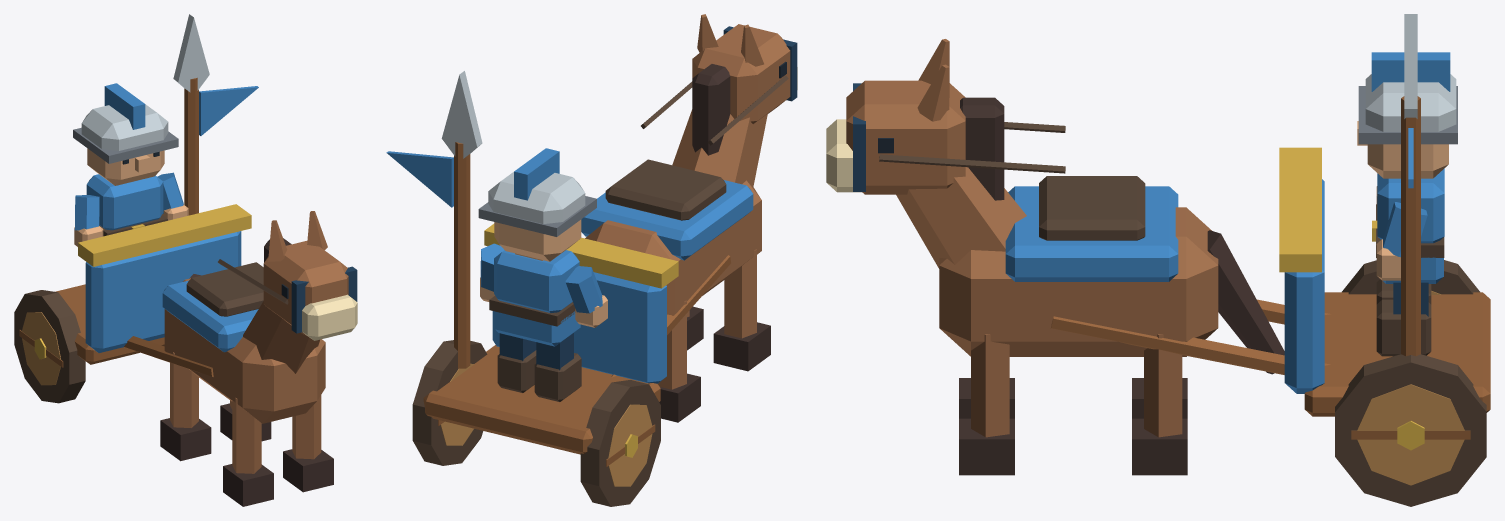
The model's file is u_chariot.glb.
3 views of the same model, side by side, from view 1: azimuth 30°, elevation 25°; view 2: azimuth 150°, elevation 25°; view 3: azimuth 270°, elevation 25° (orthographic). The views are drawn at different scales.
Parts seen in each view (by area): view 1: u_chariot; view 2: u_chariot; view 3: u_chariot.
Boxes of the visible parts, x1,y1,x2,y2 form: u_chariot: [14, 14, 357, 506]; u_chariot: [386, 14, 797, 506]; u_chariot: [826, 14, 1490, 506].
Bounding box in the file's own units: 0.2625 × 0.4 × 0.5.
